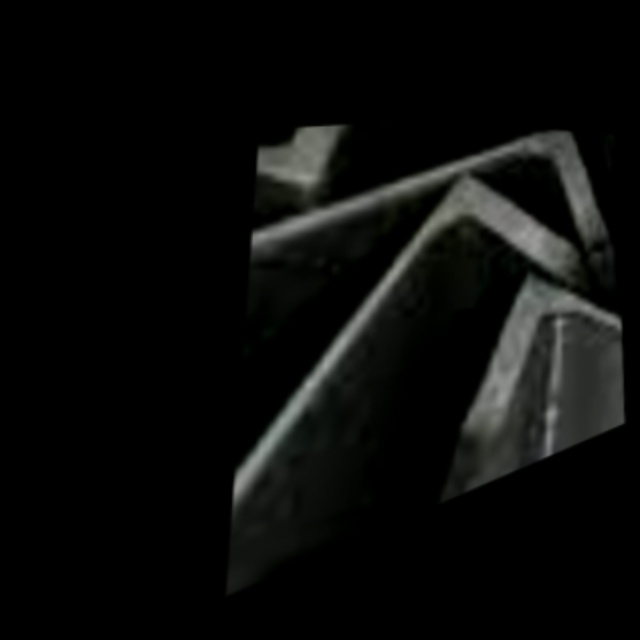Shveller: (230, 111, 611, 551), (227, 153, 575, 596), (227, 270, 461, 596), (456, 261, 630, 496), (256, 124, 365, 182)
